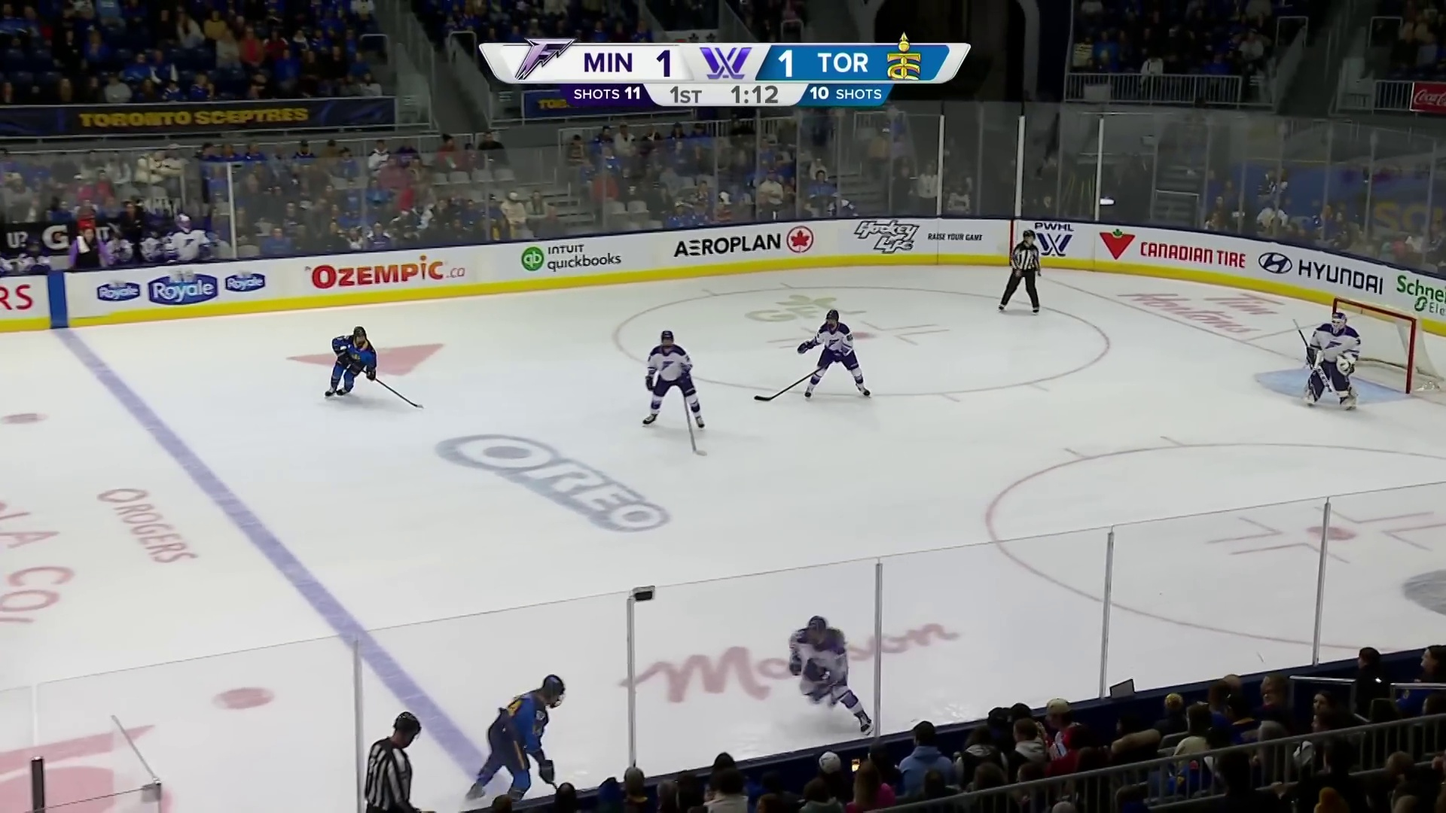goaltender: (1299, 313, 1362, 409)
player: (466, 674, 565, 804), (788, 615, 877, 735), (642, 329, 706, 430), (798, 310, 869, 399), (324, 325, 377, 398)
referee: (999, 229, 1041, 313)
